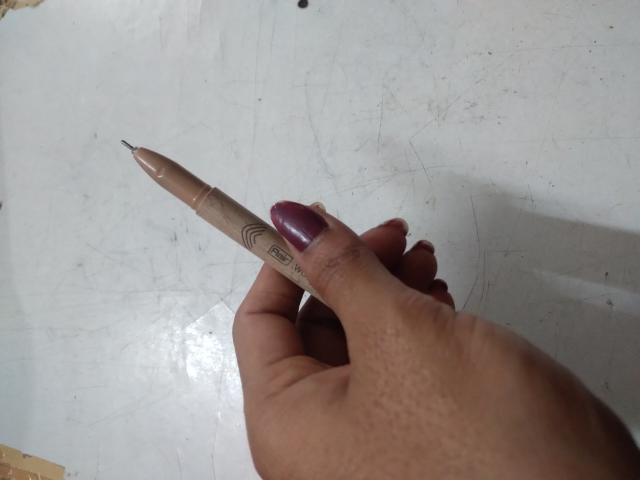PEN: (308, 171, 525, 356)
